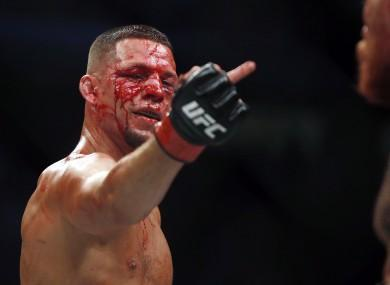Fire: (79, 38, 179, 152)
